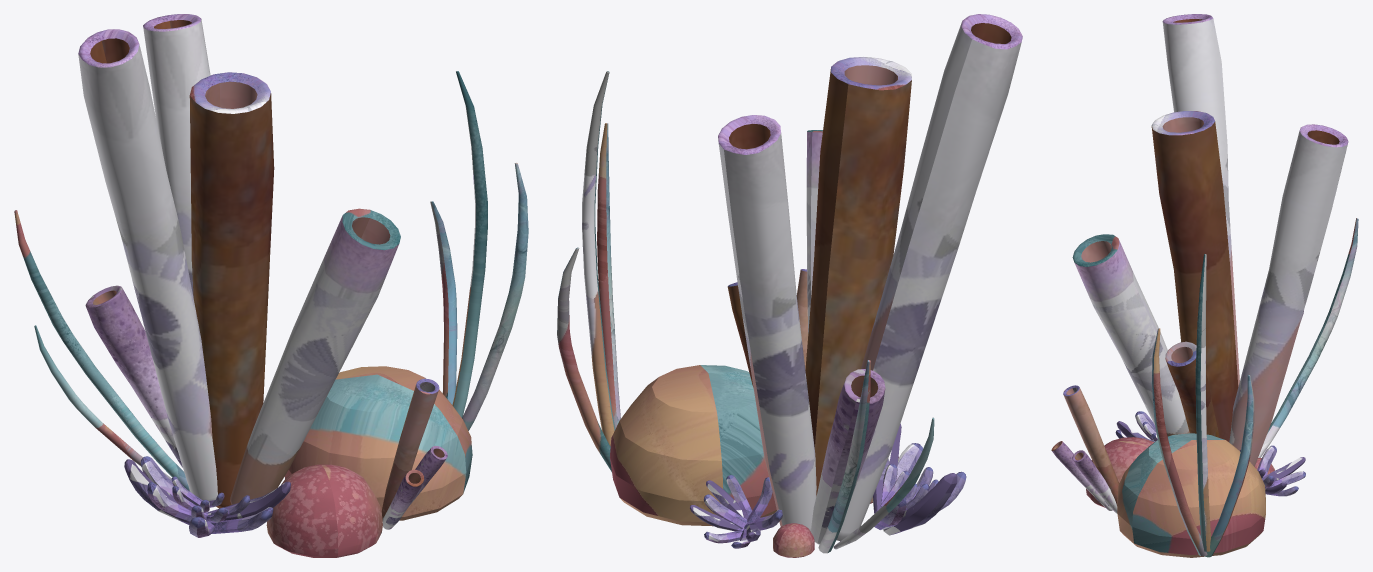
Rendered from coral-piece.glb.
The picture shows the model from 3 angles, left to right: view 1: azimuth 30°, elevation 25°; view 2: azimuth 150°, elevation 25°; view 3: azimuth 270°, elevation 25°; orthographic projection. The views are drawn at different scales.
Parts seen in each view (by area): view 1: polySurface267; view 2: polySurface267; view 3: polySurface267.
Part boxes in pixels (left/top/right/bottom): polySurface267: left=14, top=14, right=528, bottom=557; polySurface267: left=557, top=14, right=1022, bottom=557; polySurface267: left=1051, top=14, right=1358, bottom=557.
Bounding box in the file's own units: 1.38 × 1.6 × 1.08.
Materials: 1 (1 with a texture image).
